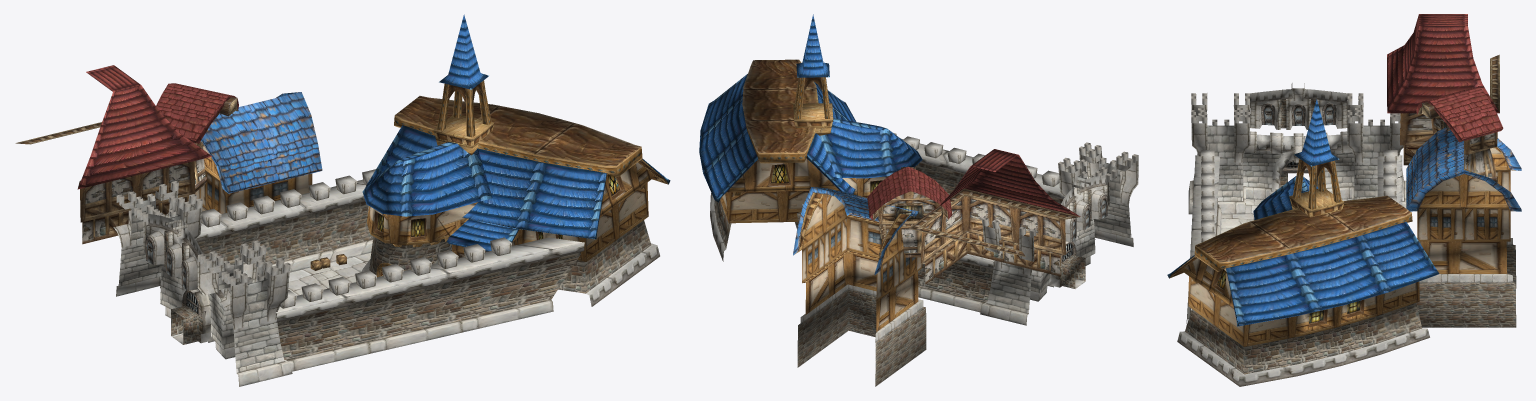
File: stormwind_047.fbx
3 renders of one model, left to right at view 1: azimuth 30°, elevation 25°; view 2: azimuth 150°, elevation 25°; view 3: azimuth 270°, elevation 25°, orthographic. The views are drawn at different scales.
Visible parts, largest first — view 1: stormwind_047_38, stormwind_047_42, stormwind_047_45, stormwind_047_40, stormwind_047_41, stormwind_047_44, stormwind_047_77, stormwind_047_39, stormwind_047_36, stormwind_047_43, stormwind_047_73, stormwind_047_76 (+7 smaller); view 2: stormwind_047_42, stormwind_047_38, stormwind_047_44, stormwind_047_40, stormwind_047_37, stormwind_047_73, stormwind_047_45, stormwind_047_36, stormwind_047_39, stormwind_047_35, stormwind_047_77, stormwind_047_79 (+6 smaller); view 3: stormwind_047_42, stormwind_047_38, stormwind_047_45, stormwind_047_40, stormwind_047_44, stormwind_047_36, stormwind_047_77, stormwind_047_39, stormwind_047_41, stormwind_047_35, stormwind_047_37, stormwind_047_43 (+7 smaller).
Boxes of the visible parts, x1,y1,x2,y2 form: stormwind_047_38: [164, 201, 651, 360]; stormwind_047_42: [362, 14, 670, 251]; stormwind_047_45: [116, 179, 659, 386]; stormwind_047_40: [113, 169, 511, 329]; stormwind_047_41: [201, 92, 322, 193]; stormwind_047_44: [373, 82, 668, 276]; stormwind_047_77: [77, 65, 212, 189]; stormwind_047_39: [118, 197, 284, 372]; stormwind_047_36: [203, 146, 648, 261]; stormwind_047_43: [376, 80, 646, 277]; stormwind_047_73: [80, 113, 219, 222]; stormwind_047_76: [156, 83, 238, 143]; stormwind_047_42: [699, 14, 922, 202]; stormwind_047_38: [714, 163, 1091, 386]; stormwind_047_44: [742, 59, 914, 283]; stormwind_047_40: [893, 133, 1138, 275]; stormwind_047_37: [727, 158, 918, 331]; stormwind_047_73: [878, 195, 1065, 263]; stormwind_047_45: [710, 138, 1133, 342]; stormwind_047_36: [720, 166, 915, 263]; stormwind_047_39: [987, 161, 1131, 313]; stormwind_047_35: [802, 216, 922, 300]; stormwind_047_77: [914, 149, 1080, 224]; stormwind_047_79: [872, 167, 1080, 272]; stormwind_047_42: [1167, 99, 1439, 326]; stormwind_047_38: [1185, 99, 1516, 374]; stormwind_047_45: [1177, 89, 1513, 386]; stormwind_047_40: [1191, 83, 1403, 242]; stormwind_047_44: [1169, 147, 1519, 327]; stormwind_047_36: [1188, 147, 1510, 346]; stormwind_047_77: [1387, 14, 1499, 113]; stormwind_047_39: [1193, 121, 1403, 201]; stormwind_047_41: [1406, 127, 1521, 211]; stormwind_047_35: [1417, 170, 1510, 241]; stormwind_047_37: [1181, 241, 1507, 307]; stormwind_047_43: [1191, 158, 1412, 282].
Bounding box in the file's own units: 96.79 × 54.73 × 65.2.
